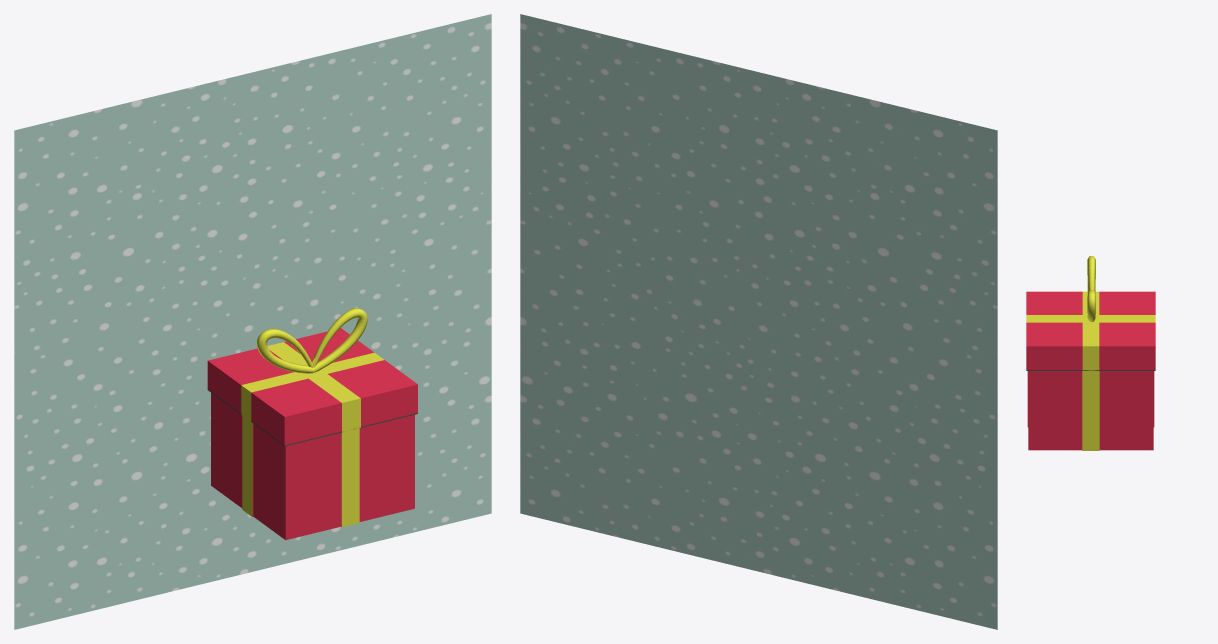
The model's file is PapaiNoel.glb.
The picture shows the model from 3 angles, left to right: view 1: azimuth 30°, elevation 25°; view 2: azimuth 150°, elevation 25°; view 3: azimuth 270°, elevation 25°; orthographic projection. The views are drawn at different scales.
Visible parts, largest first — view 1: Plane.004, Cube, Cube.001; view 2: Plane.004; view 3: Cube.001, Cube.
Boxes of the visible parts, x1,y1,x2,y2 form: Plane.004: (14,14,491,629); Cube: (211,393,414,540); Cube.001: (207,308,417,446); Plane.004: (520,14,997,629); Cube.001: (1026,256,1155,370); Cube: (1027,371,1154,450).
Size of what is drawn, in the model's own units: 7.16 by 7.16 by 2.74.
9 materials, 6 textured.
